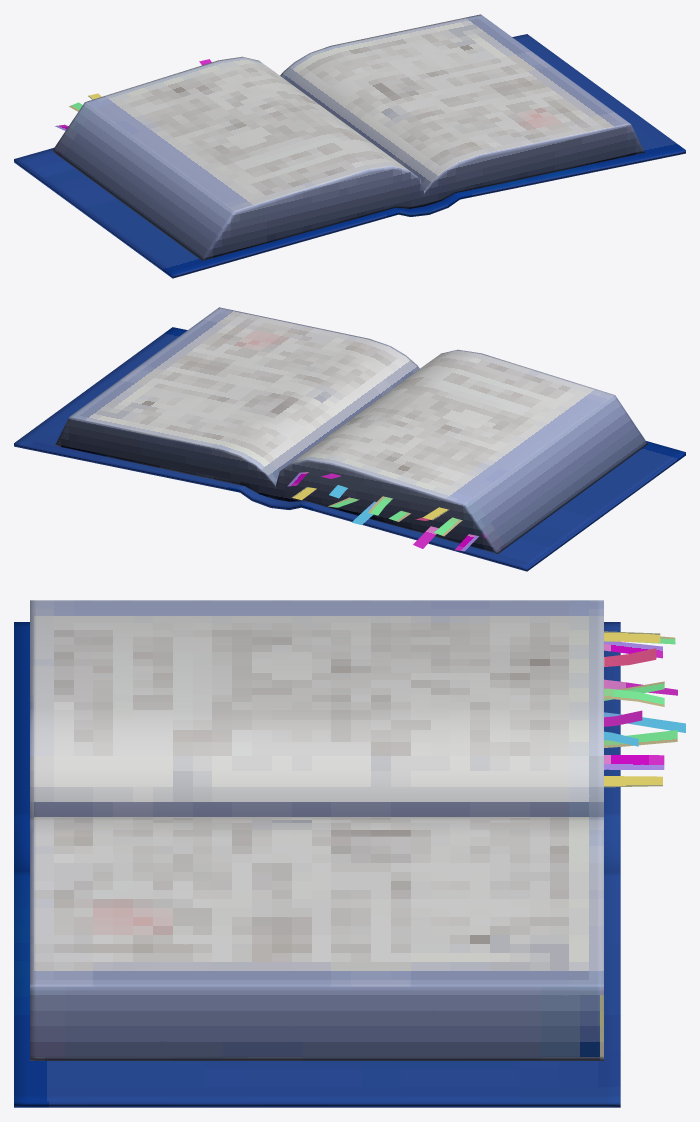
The model's file is a_w23_i_obj_binder01.gltf.
3 views of the same model, one above another, from view 1: azimuth 30°, elevation 25°; view 2: azimuth 150°, elevation 25°; view 3: azimuth 270°, elevation 25° (orthographic). The views are drawn at different scales.
Parts seen in each view (by area): view 1: a_w23_i_obj_binder01_mesh_shape:a_w23_i_obj_binder01_main; view 2: a_w23_i_obj_binder01_mesh_shape:a_w23_i_obj_binder01_main; view 3: a_w23_i_obj_binder01_mesh_shape:a_w23_i_obj_binder01_main.
Boxes of the visible parts, x1,y1,x2,y2 form: a_w23_i_obj_binder01_mesh_shape:a_w23_i_obj_binder01_main: [14, 14, 685, 278]; a_w23_i_obj_binder01_mesh_shape:a_w23_i_obj_binder01_main: [14, 307, 685, 571]; a_w23_i_obj_binder01_mesh_shape:a_w23_i_obj_binder01_main: [14, 600, 685, 1107].
Bounding box in the file's own units: 0.7838 × 0.0827 × 0.4648.
1 material, 1 textured.
